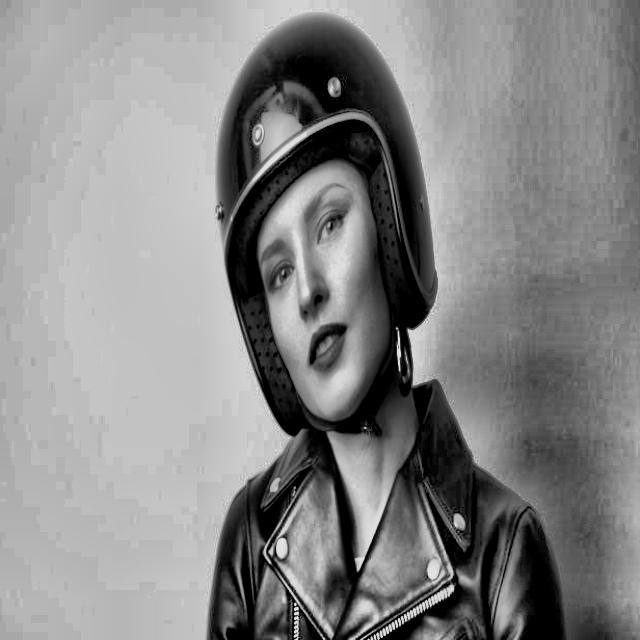Helmet: (208, 0, 444, 447)
